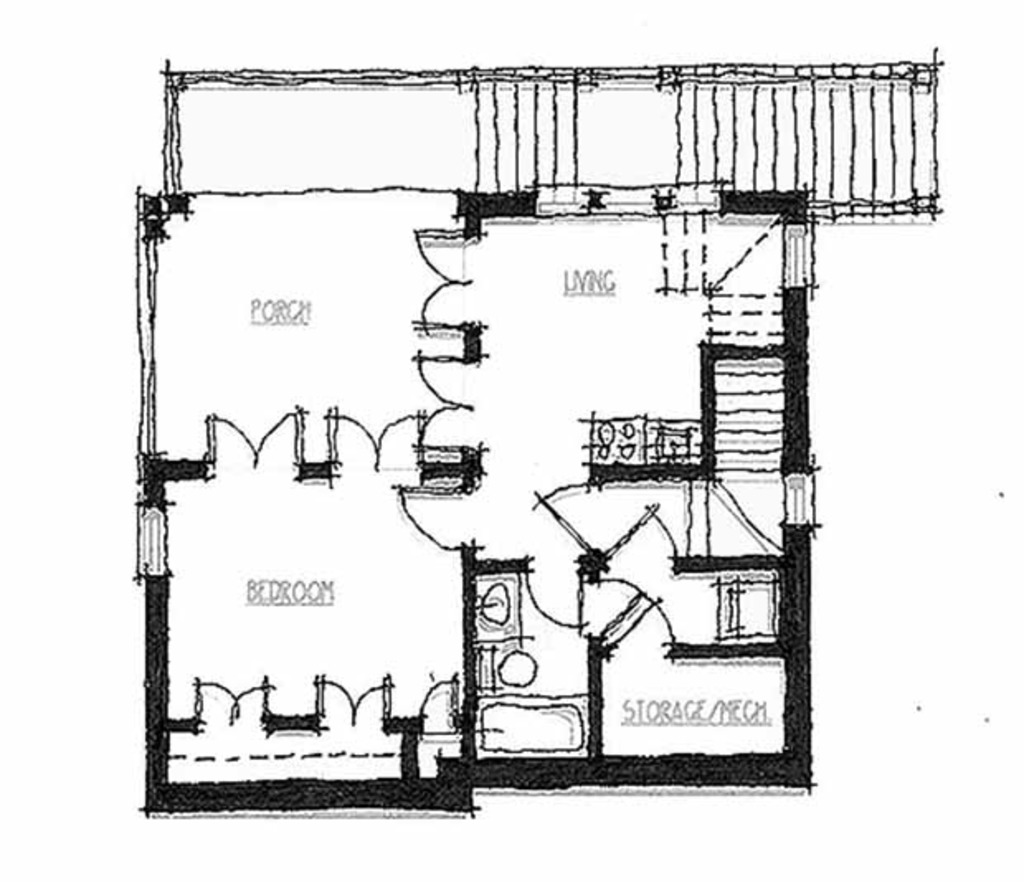door: (413, 231, 472, 328), (329, 413, 422, 470), (308, 672, 408, 725), (207, 411, 297, 462), (191, 671, 264, 723)
